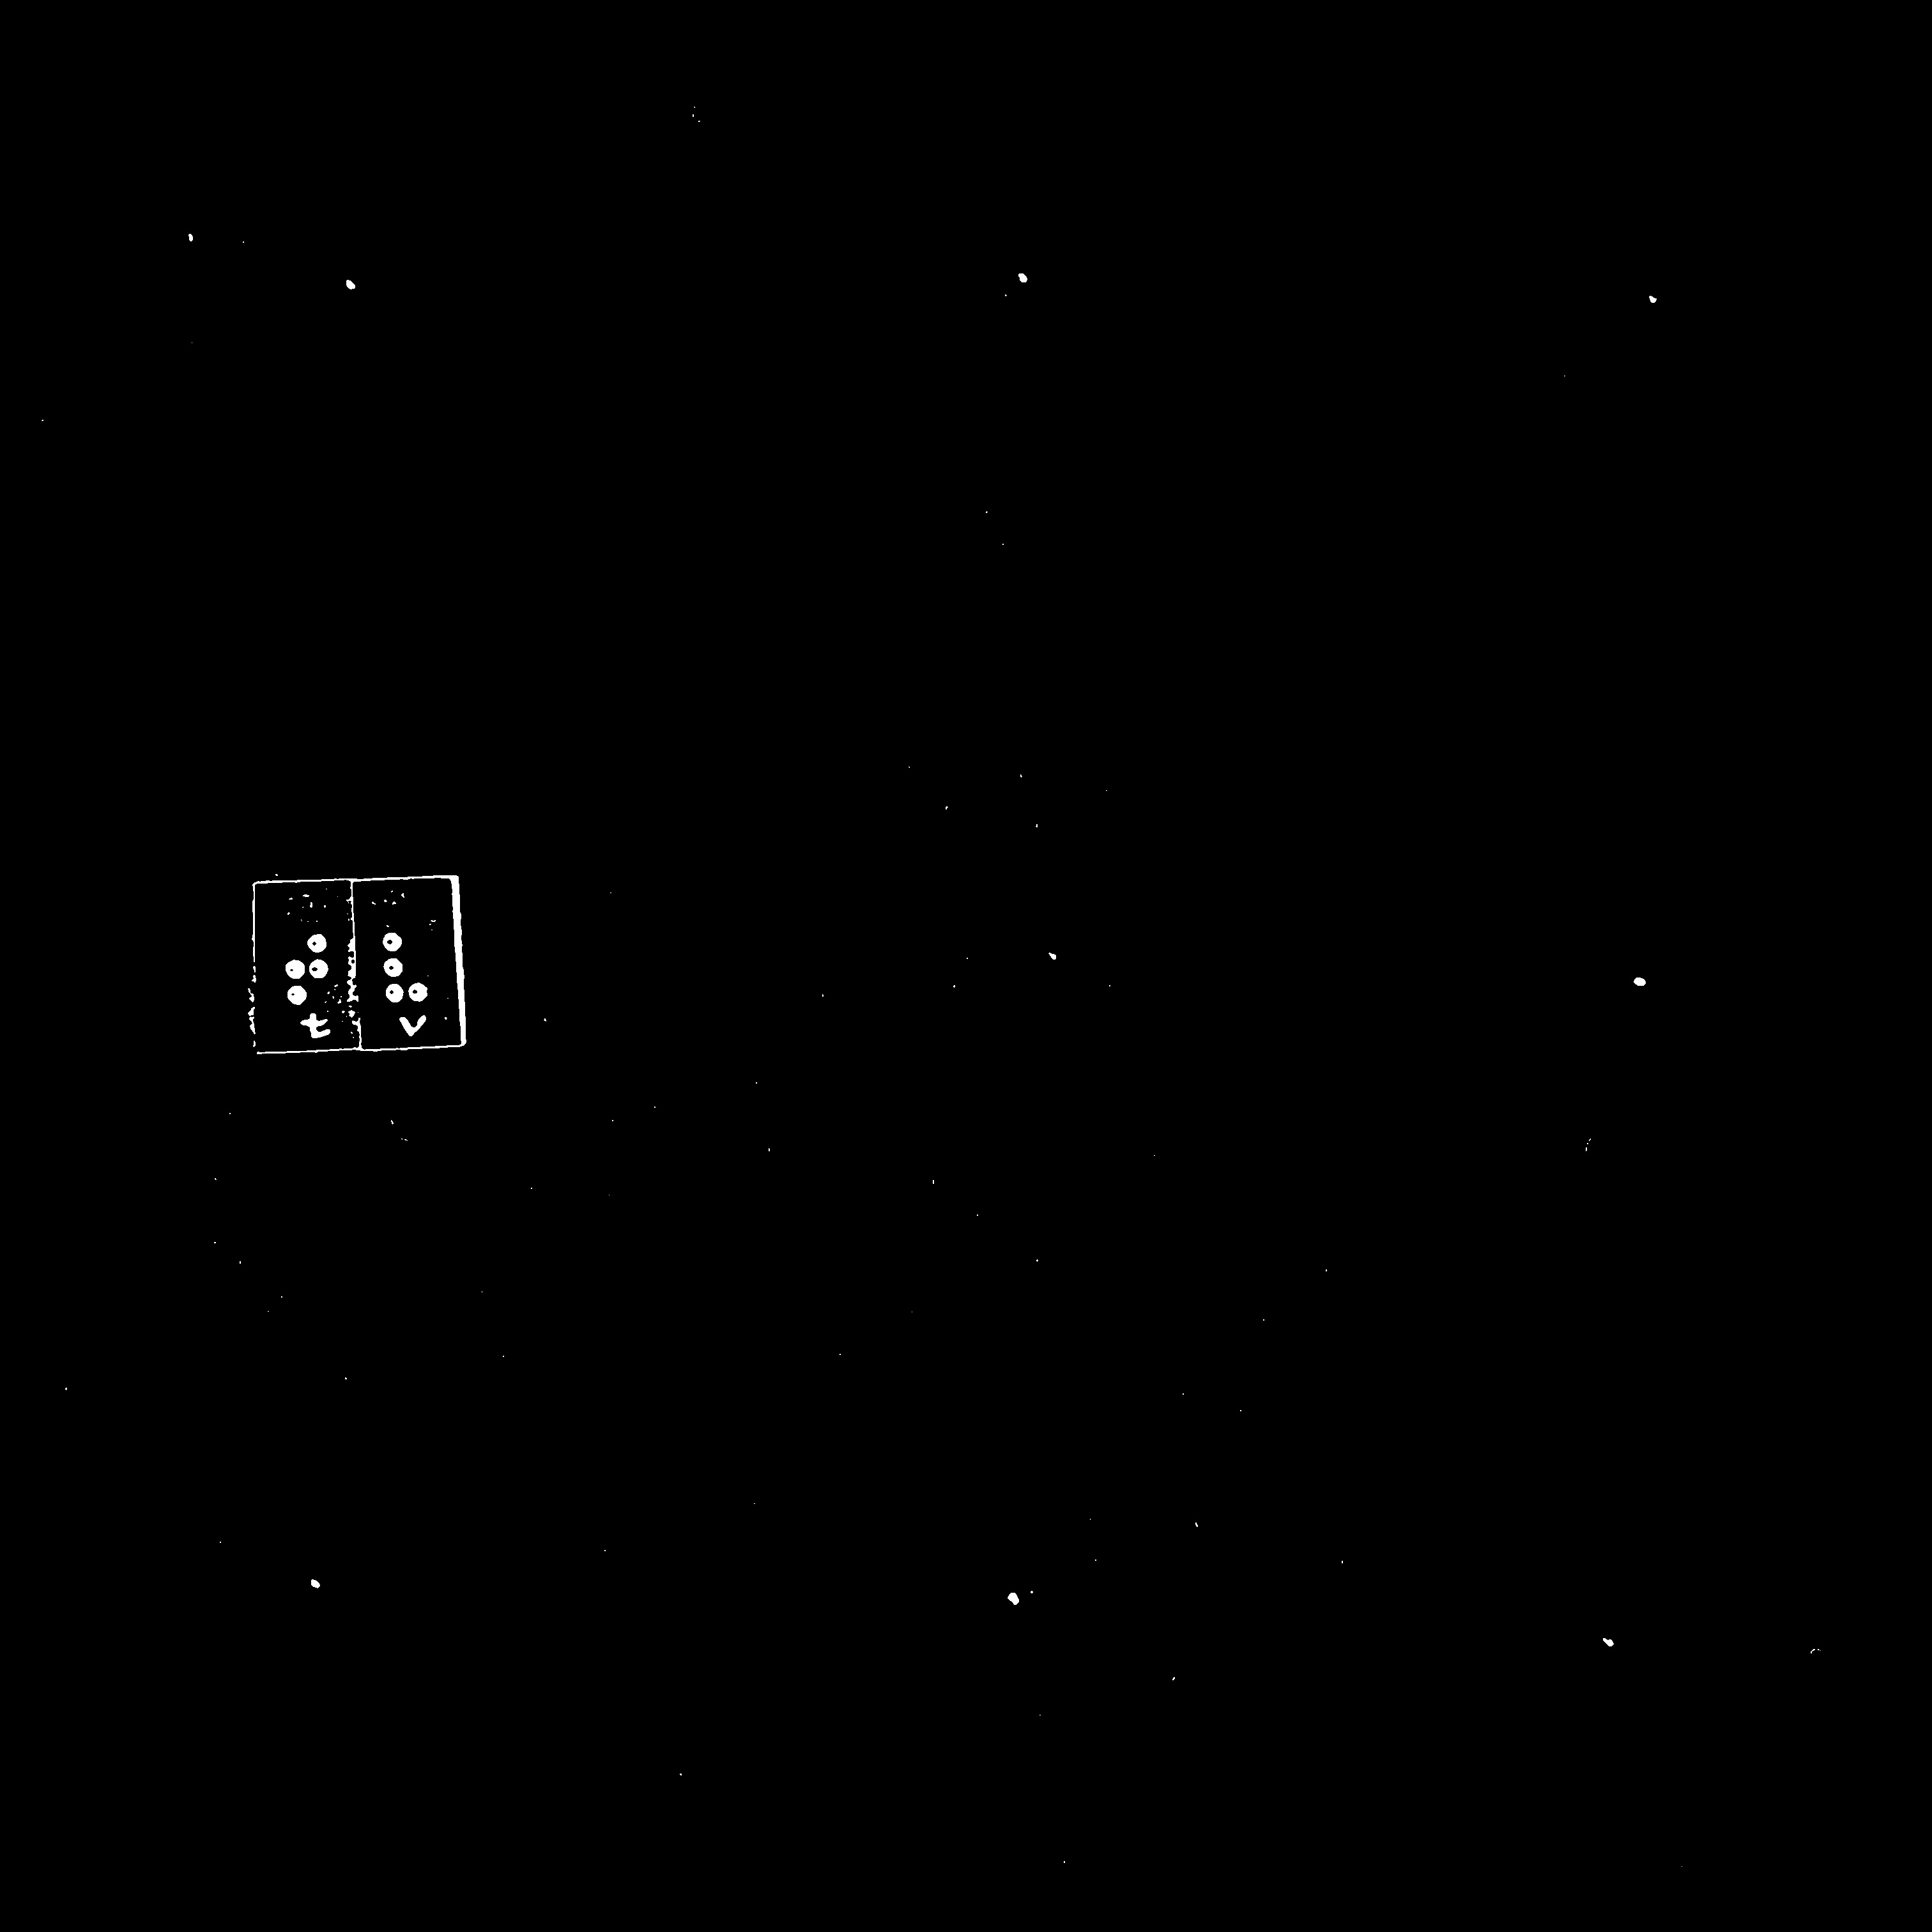t: (282, 925, 340, 1015)
v: (371, 919, 439, 1013)
